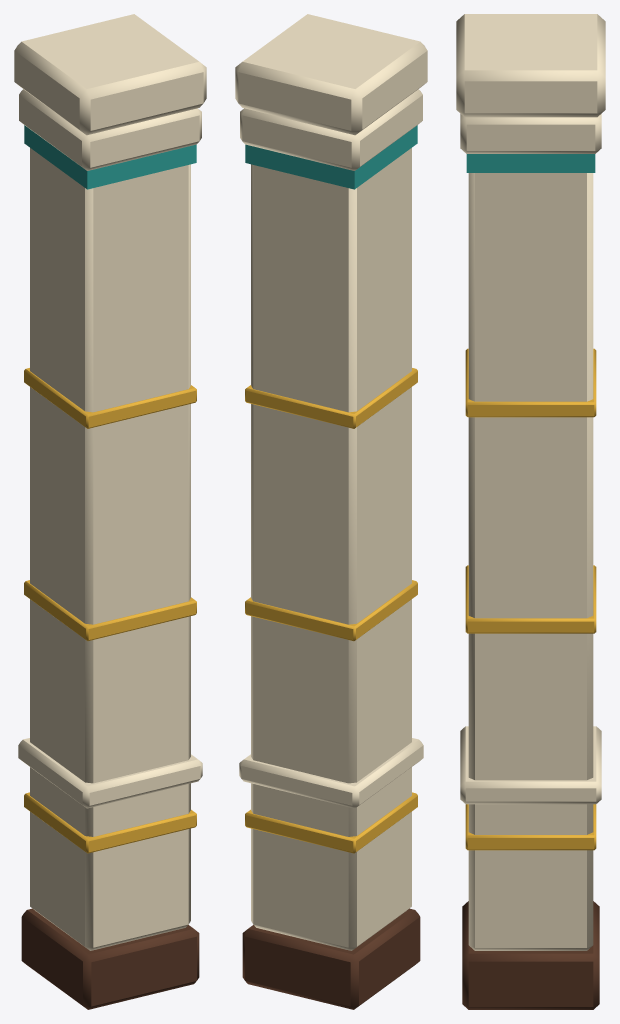
Rendered from wall_corner.glb.
3 renders of one model, left to right at view 1: azimuth 30°, elevation 25°; view 2: azimuth 150°, elevation 25°; view 3: azimuth 270°, elevation 25°, orthographic. The views are drawn at different scales.
Visible parts, largest first — view 1: wall_corner; view 2: wall_corner; view 3: wall_corner.
Part boxes in pixels (x1=…): wall_corner: x1=14, y1=14, x2=206, y2=1009; wall_corner: x1=235, y1=14, x2=427, y2=1009; wall_corner: x1=456, y1=14, x2=605, y2=1009.
Bounding box in the file's own units: 0.72 × 5 × 0.72.
